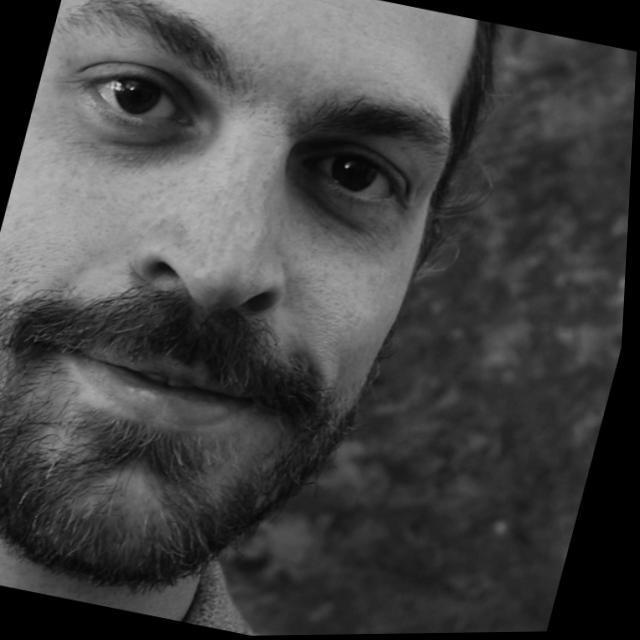puffy_eyes: (65, 75, 199, 167), (296, 170, 400, 249)
